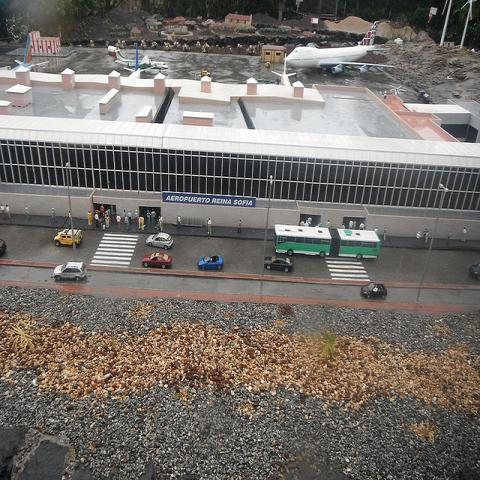bus: (273, 224, 381, 262)
car: (53, 260, 88, 283), (53, 228, 83, 247), (265, 254, 294, 272), (146, 232, 174, 250), (361, 282, 387, 299), (197, 253, 223, 270), (142, 254, 171, 268), (469, 261, 479, 280), (0, 239, 8, 260)
